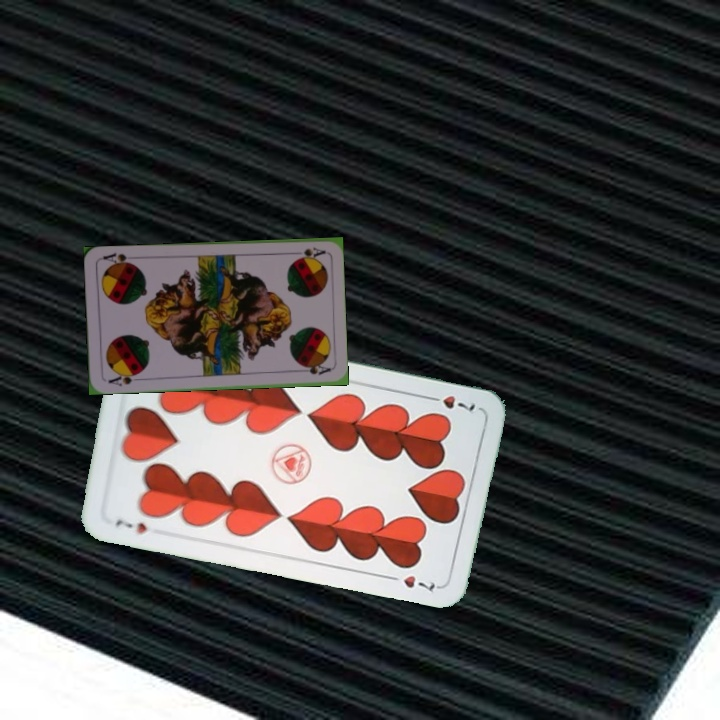H7: (422, 391, 478, 414), (111, 515, 149, 538)
SA: (104, 369, 143, 388), (292, 243, 327, 261)
